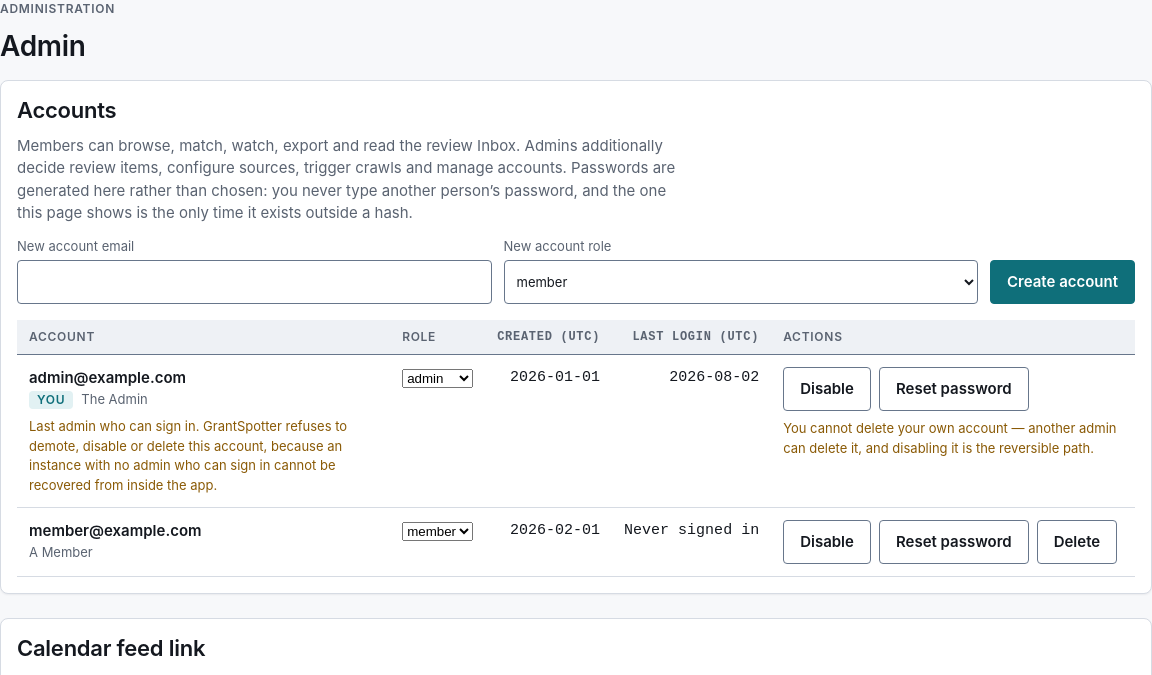
Test: Admin console — users › never puts a generated password in a request URL
The width and height of the screenshot is (1152, 675).
Type "new@example.com" into the field labelled "New account email" at (254, 282), box [17, 260, 492, 304]
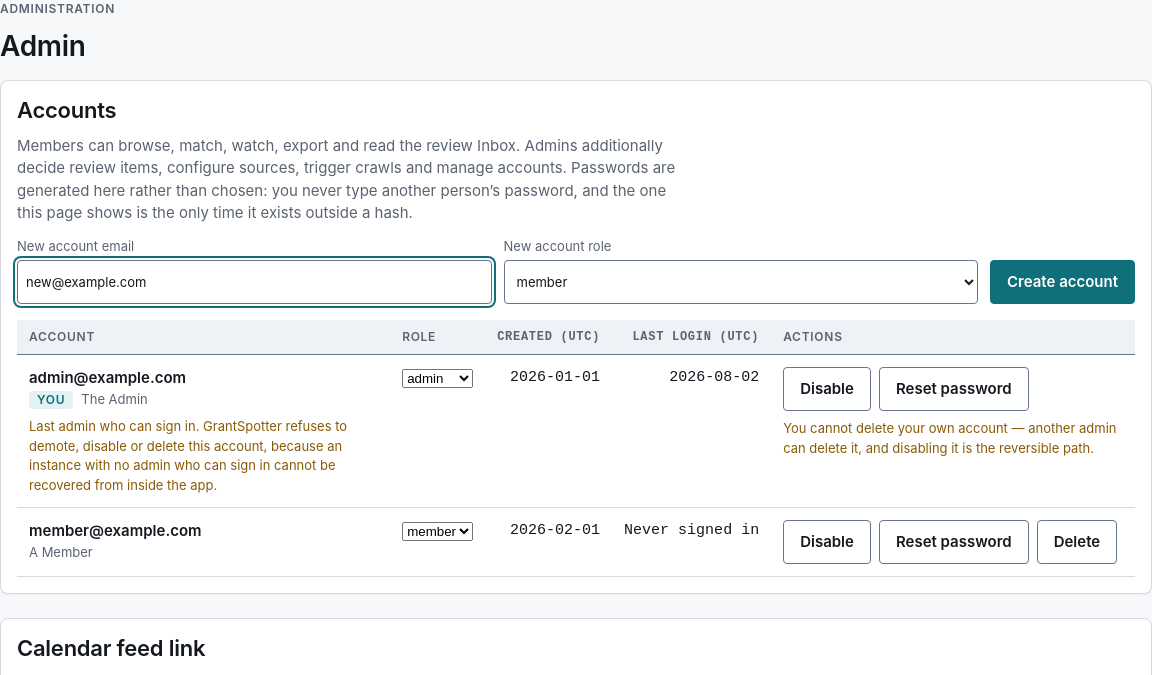
Click the button "Create account" at (1062, 282), box [990, 260, 1135, 304]
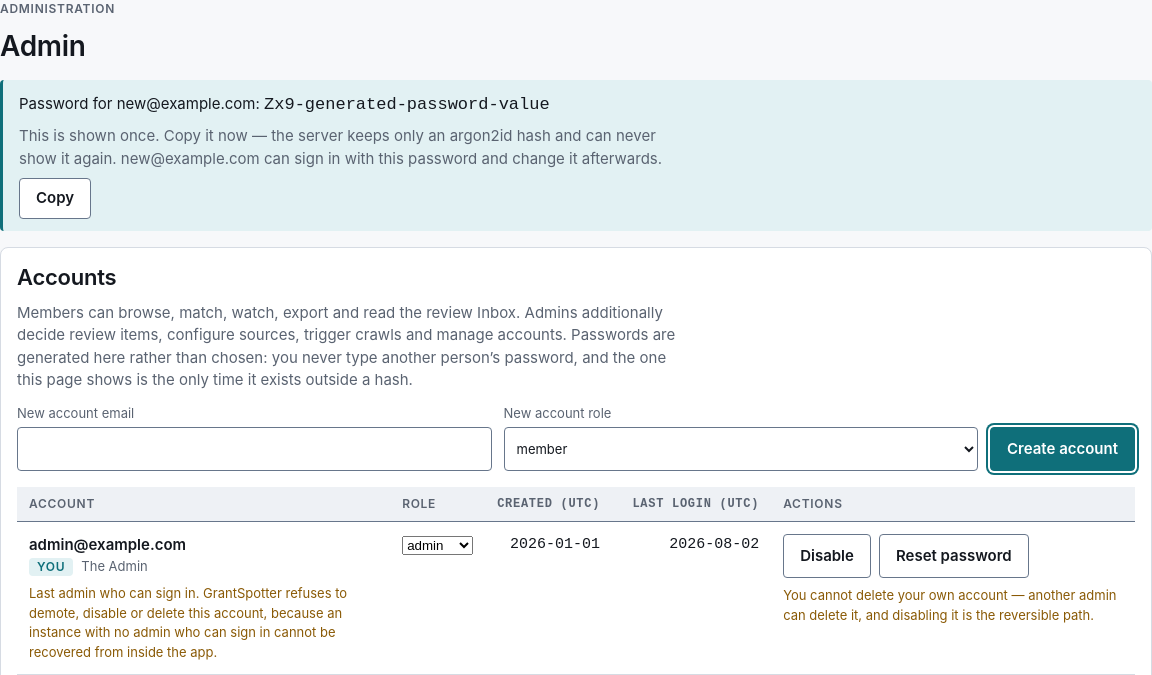
Check: the message is shown, box [0, 80, 1151, 231]
